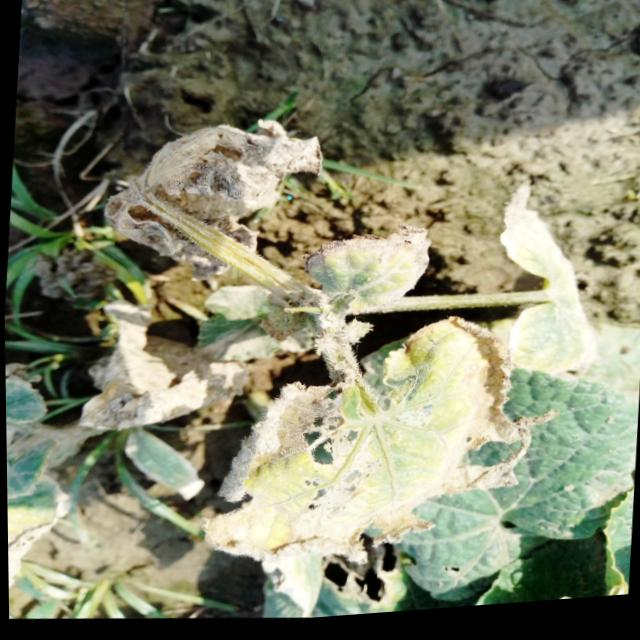Bacterial-Wilt: (96, 108, 326, 293)
